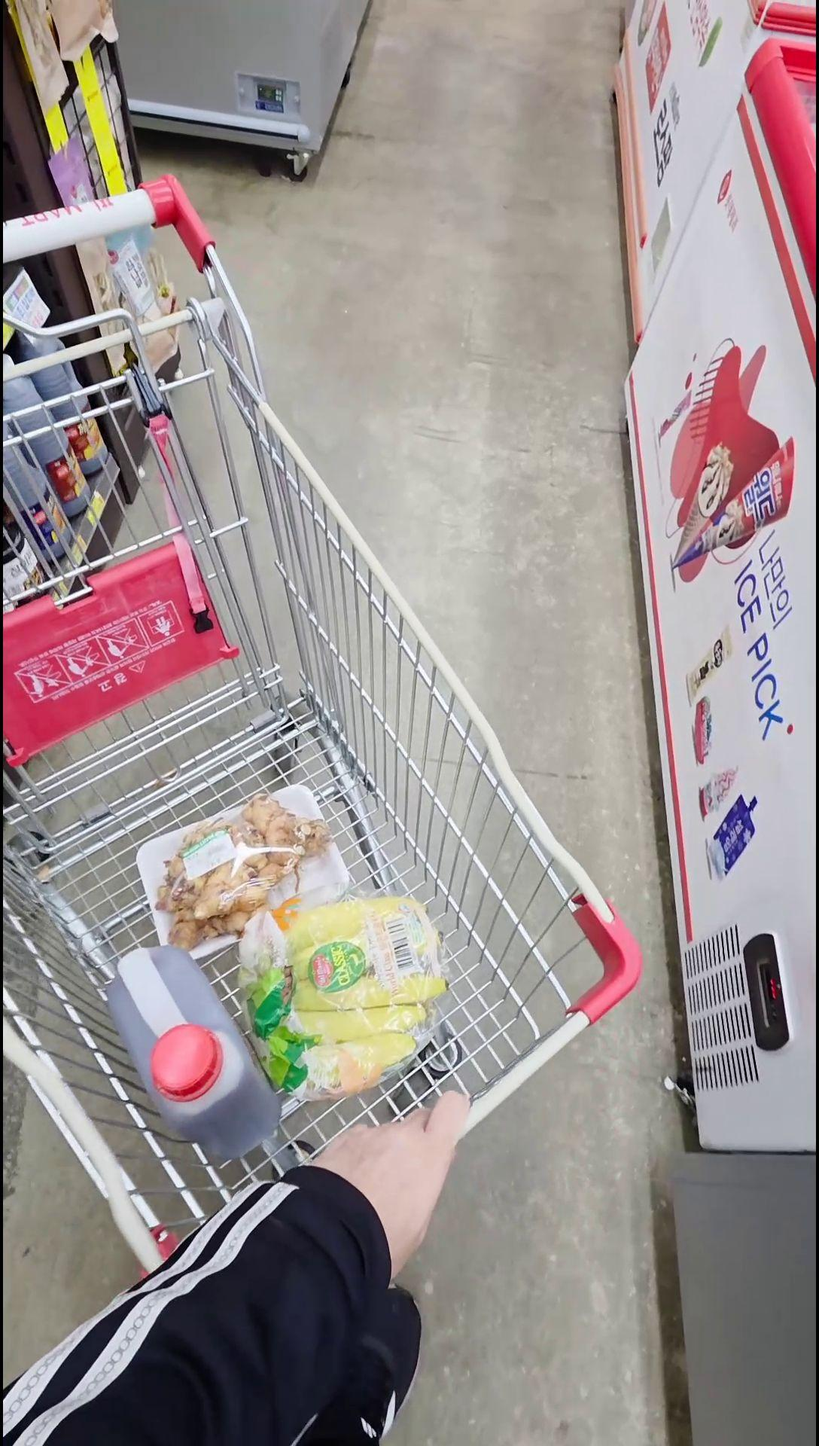fully_cart: (1, 169, 674, 1319)
